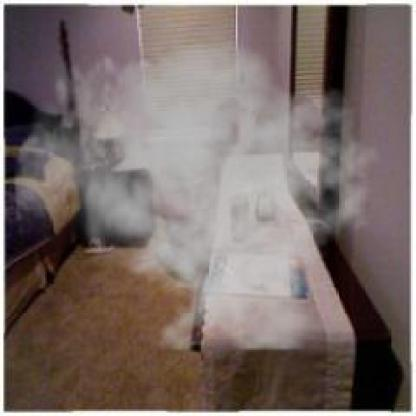Smoke: (13, 10, 382, 349)
